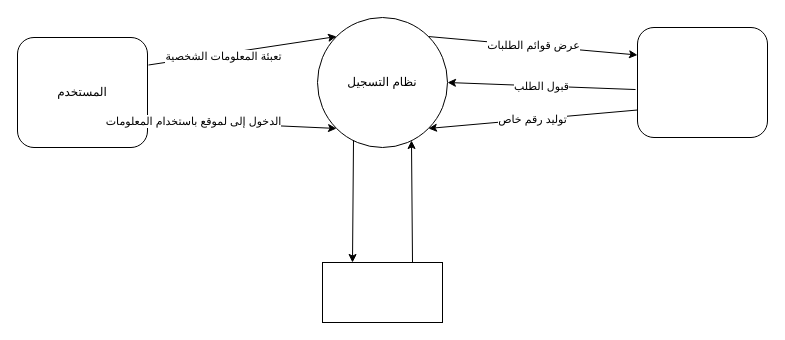
The diagram is 785 pixels wide and 340 high, and some of its shapes have lost their labels. Here are the shapes that lost their labels. From the top down, the centre of each, then its label:
At point (702, 82): "مدير الموقع".
At point (382, 292): "المستخدمين".
